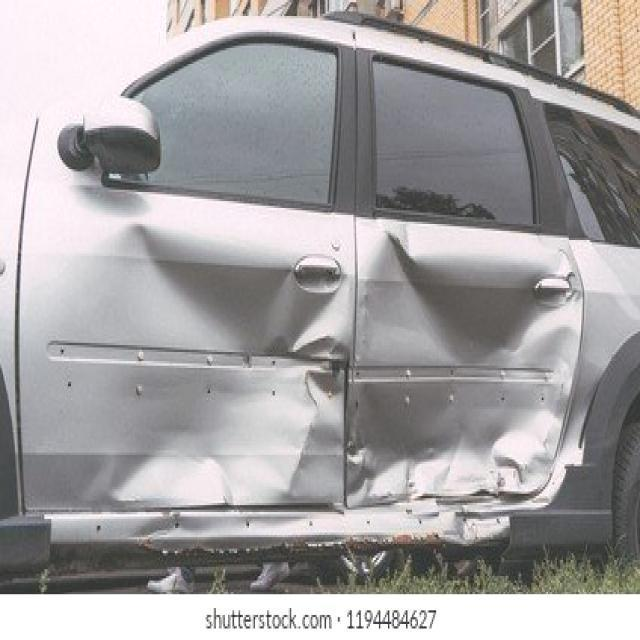minor: (99, 193, 358, 513), (368, 227, 584, 506)
